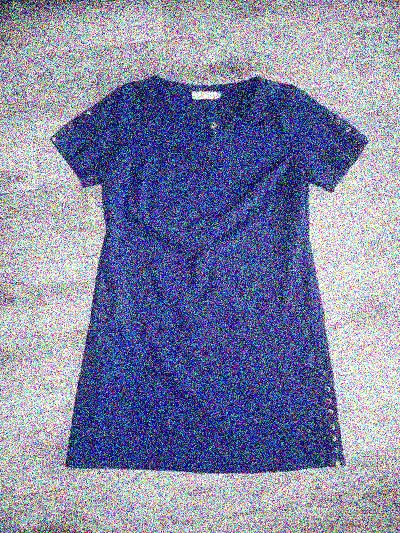Dress: (29, 37, 394, 490)
